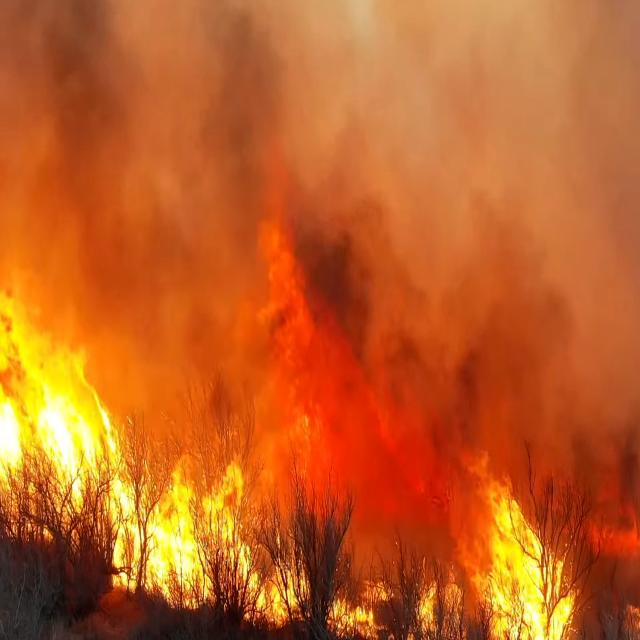fire: (97, 474, 255, 616), (0, 338, 97, 514), (459, 510, 565, 640)
